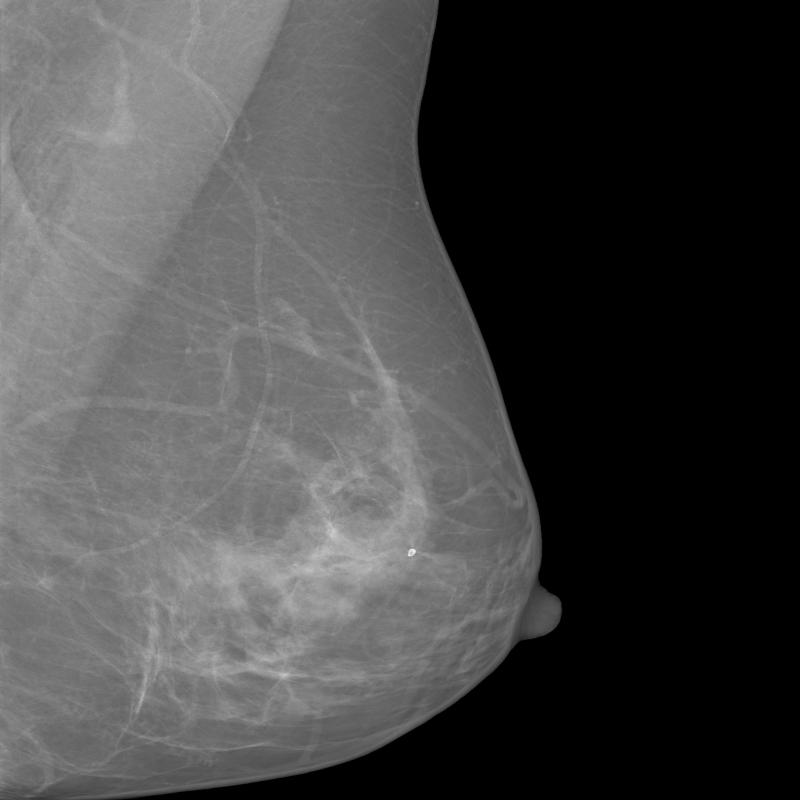No-Mass: (322, 477, 429, 580)
